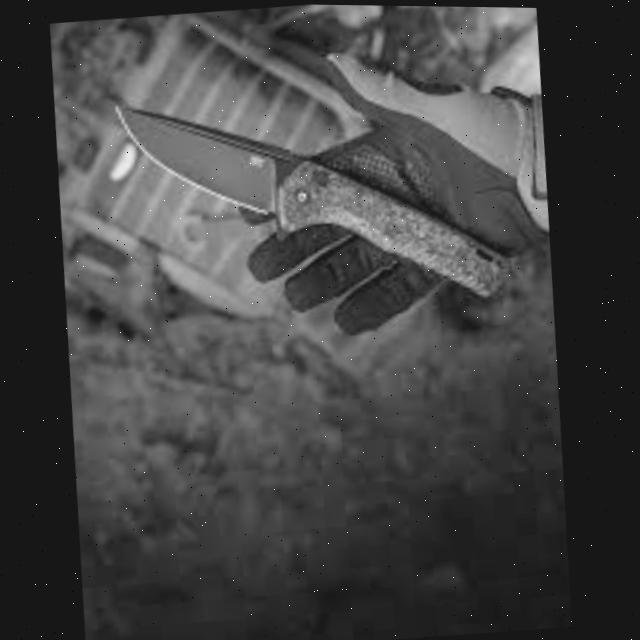knife: (105, 63, 524, 331)
